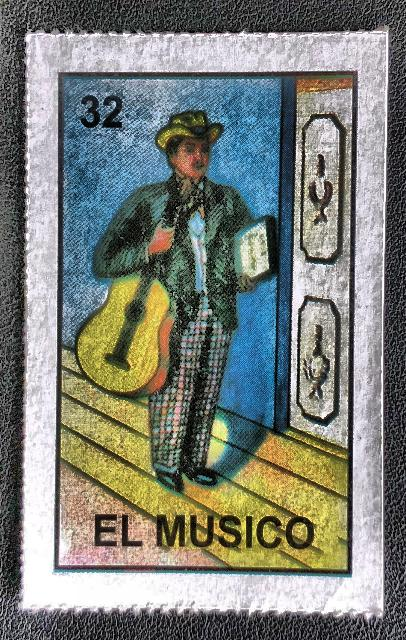El Musico: (37, 43, 377, 602)
